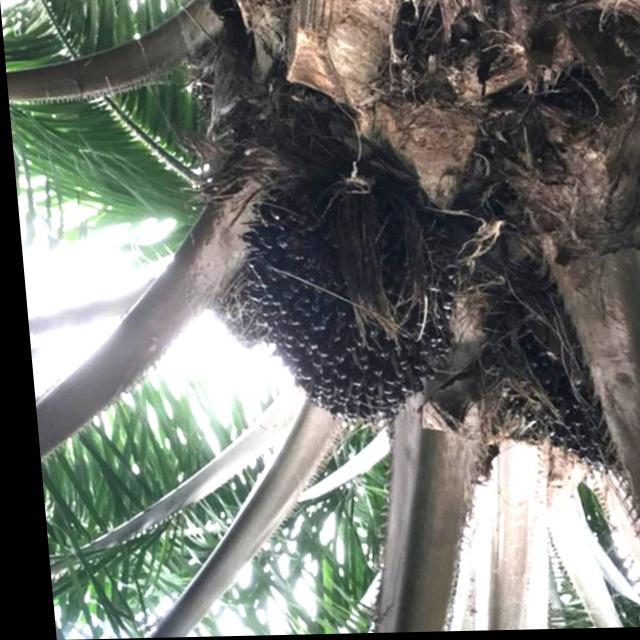almost: (223, 158, 477, 440)
